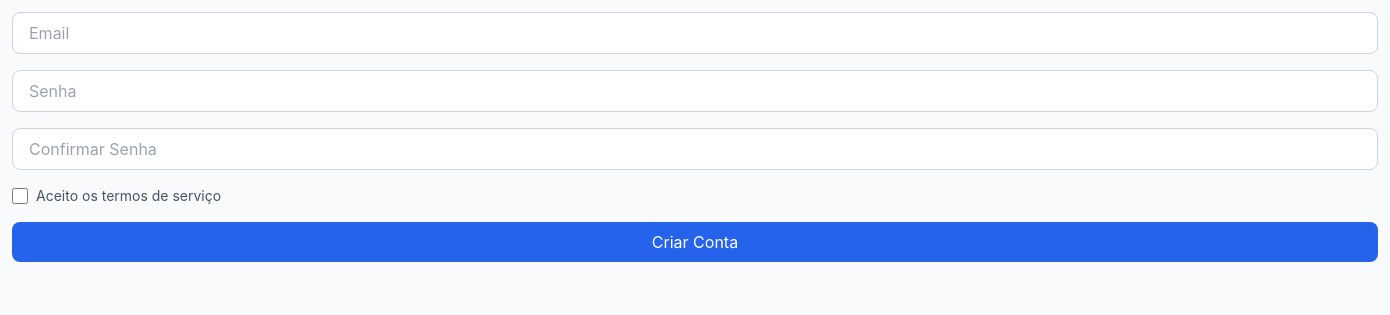
Test case: RegisterForm › shows error when terms not accepted
Type "test@example.com" into the field with placeholder "Email" at (695, 33), box [12,12,1378,54]
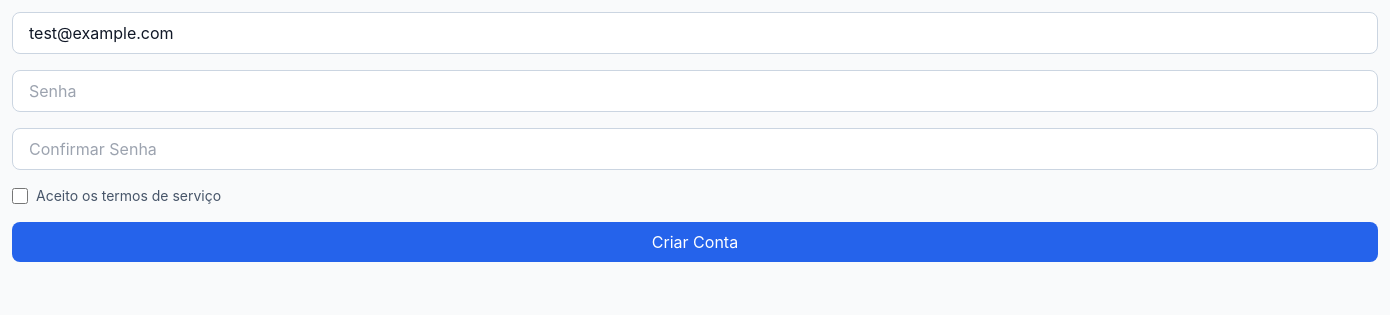
Type "password123" into the password field with placeholder "Senha" at (695, 91), box [12,70,1378,112]
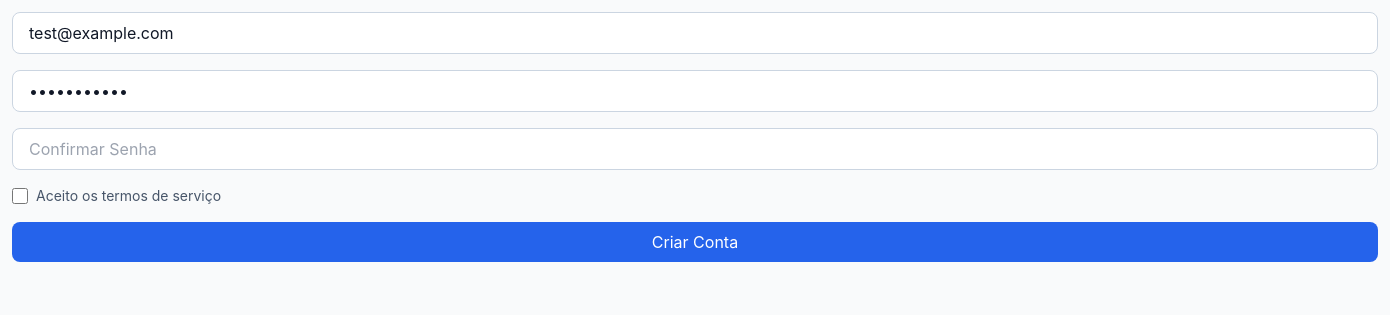
Type "password123" into the password field with placeholder "Confirmar Senha" at (695, 149), box [12,128,1378,170]
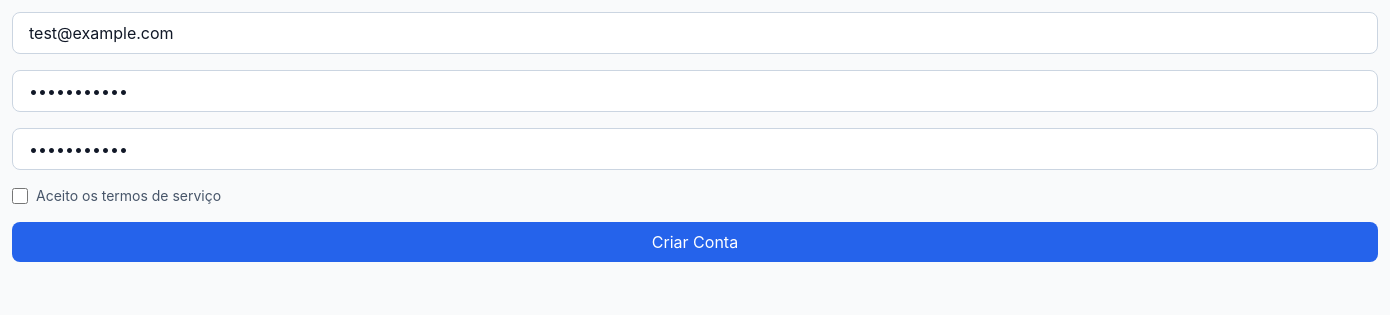
Click the button "Criar Conta" at (695, 242), box [12,222,1378,262]
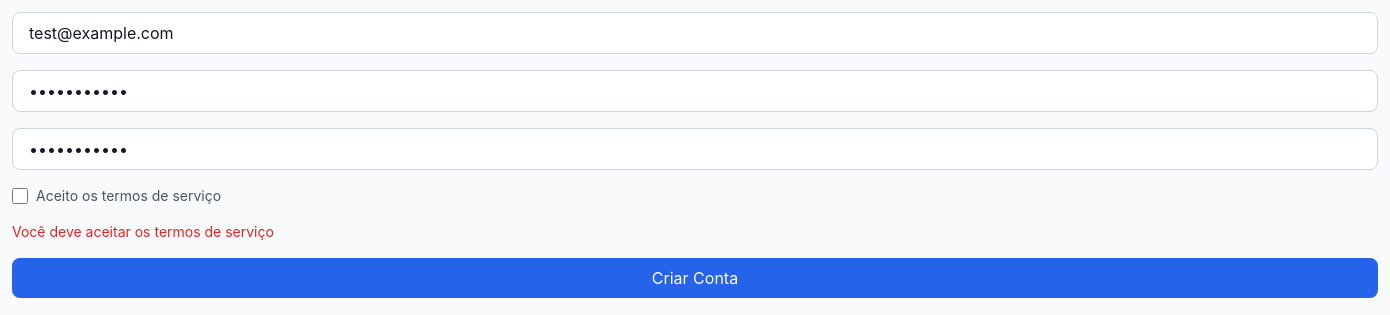
Result: the text "Você deve aceitar os termos de serviço" is shown at [12,223,274,240]
